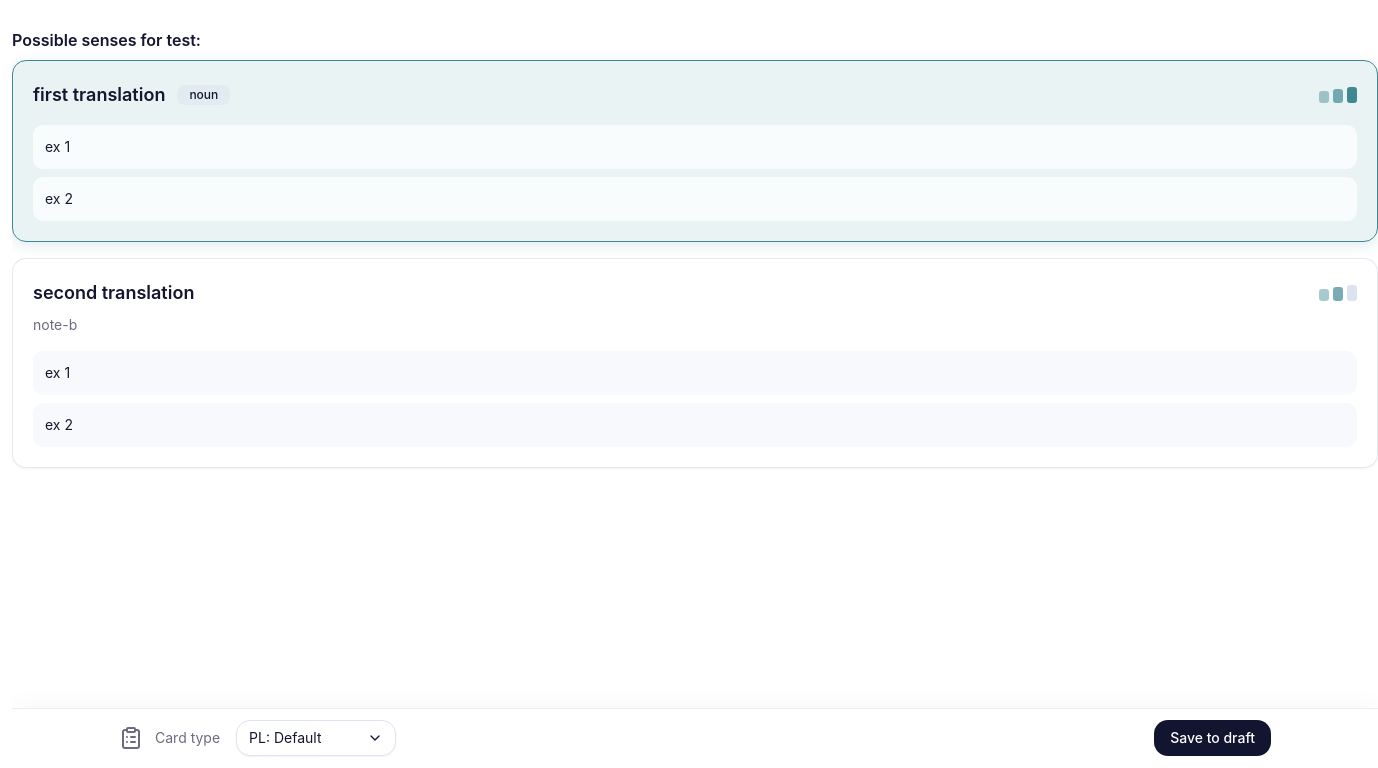
SensesResults › disables saving during persistence and prevents duplicate requests
Click the button "Save to draft". click: coordinates (1213, 738)
box: [1154,720,1271,756]
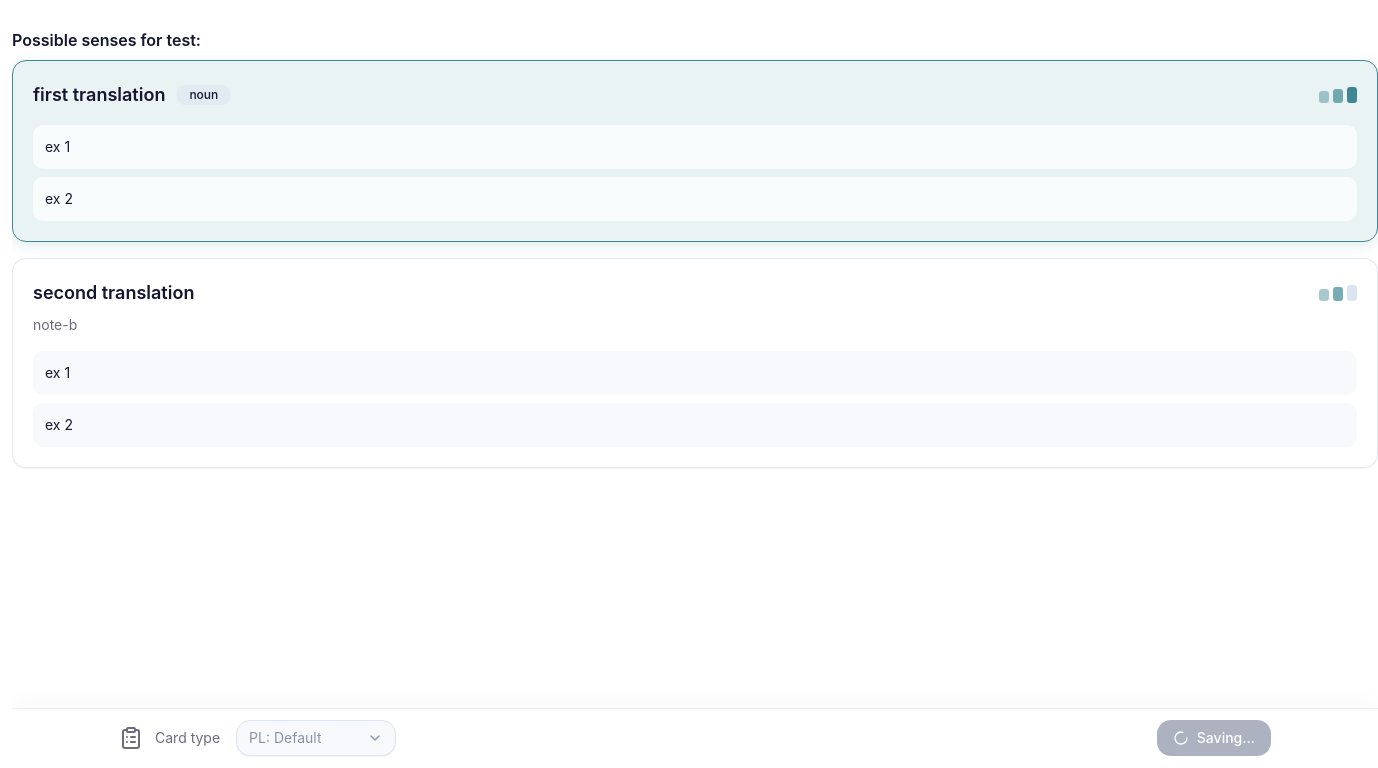
Check: the button named "save to draft" is disabled
Check: the button named "save to draft" reads "Saving…"
Check: the dropdown named "Note type" is disabled, box [236,720,396,756]
Click the button named "save to draft". click: coordinates (1214, 738)
box: [1157,720,1271,756]
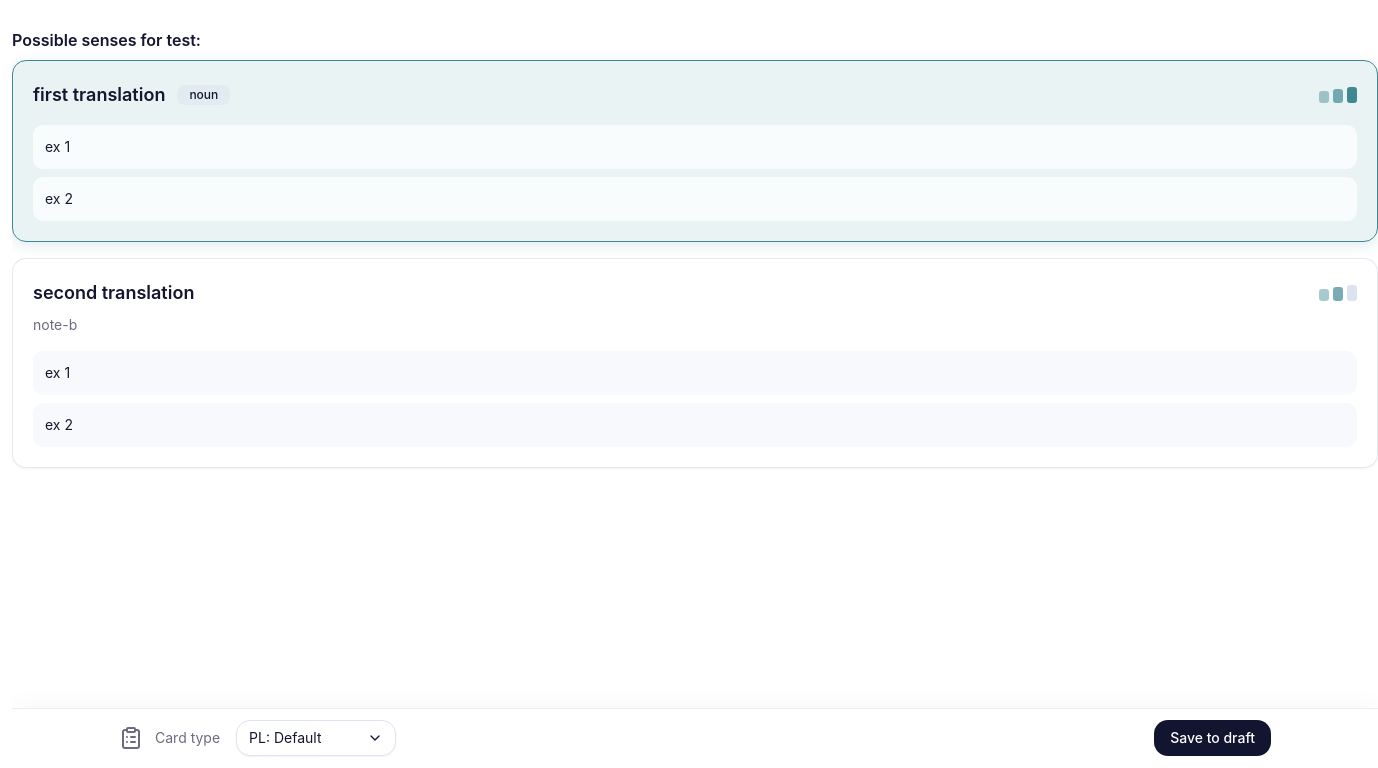
Check: the button "Save to draft" is enabled, box [1154,720,1271,756]
